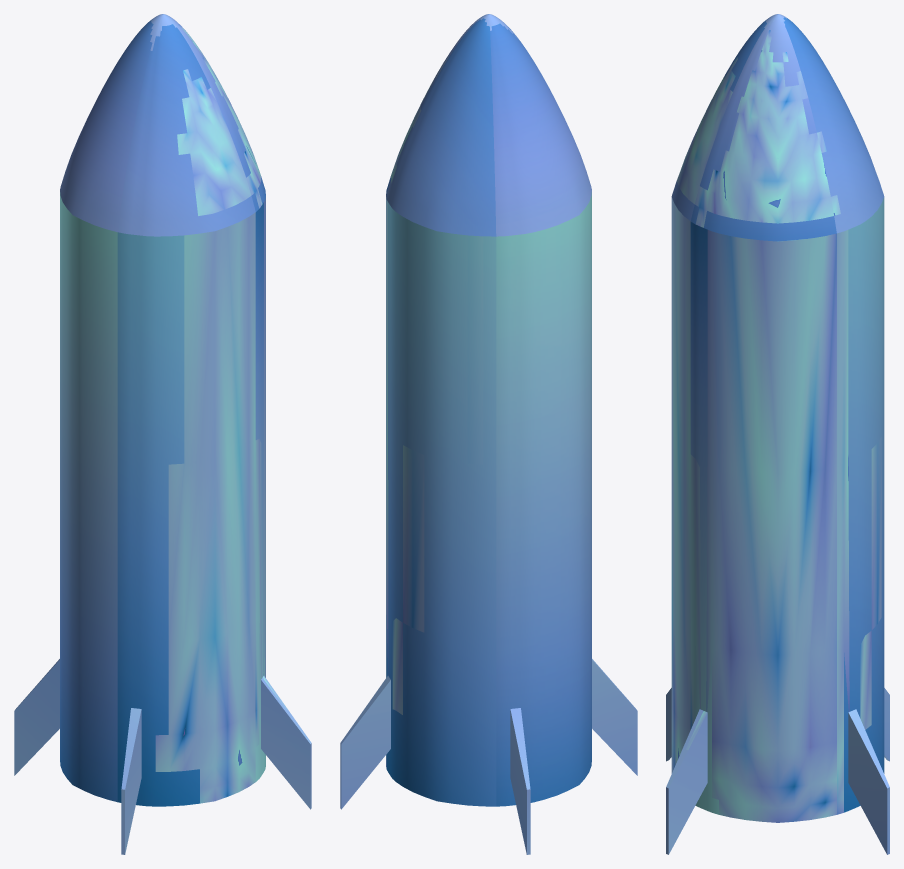
Rendered from rocket2.obj.
The picture shows the model from 3 angles, left to right: view 1: azimuth 30°, elevation 25°; view 2: azimuth 150°, elevation 25°; view 3: azimuth 270°, elevation 25°; orthographic projection.
Visible parts, largest first — view 1: Cylinder; view 2: Cylinder; view 3: Cylinder.
Boxes of the visible parts, x1,y1,x2,y2 form: Cylinder: [14, 14, 311, 854]; Cylinder: [340, 14, 637, 854]; Cylinder: [666, 14, 889, 854].
Size of the model in its own units: 2.1 by 8.23 by 2.1.
